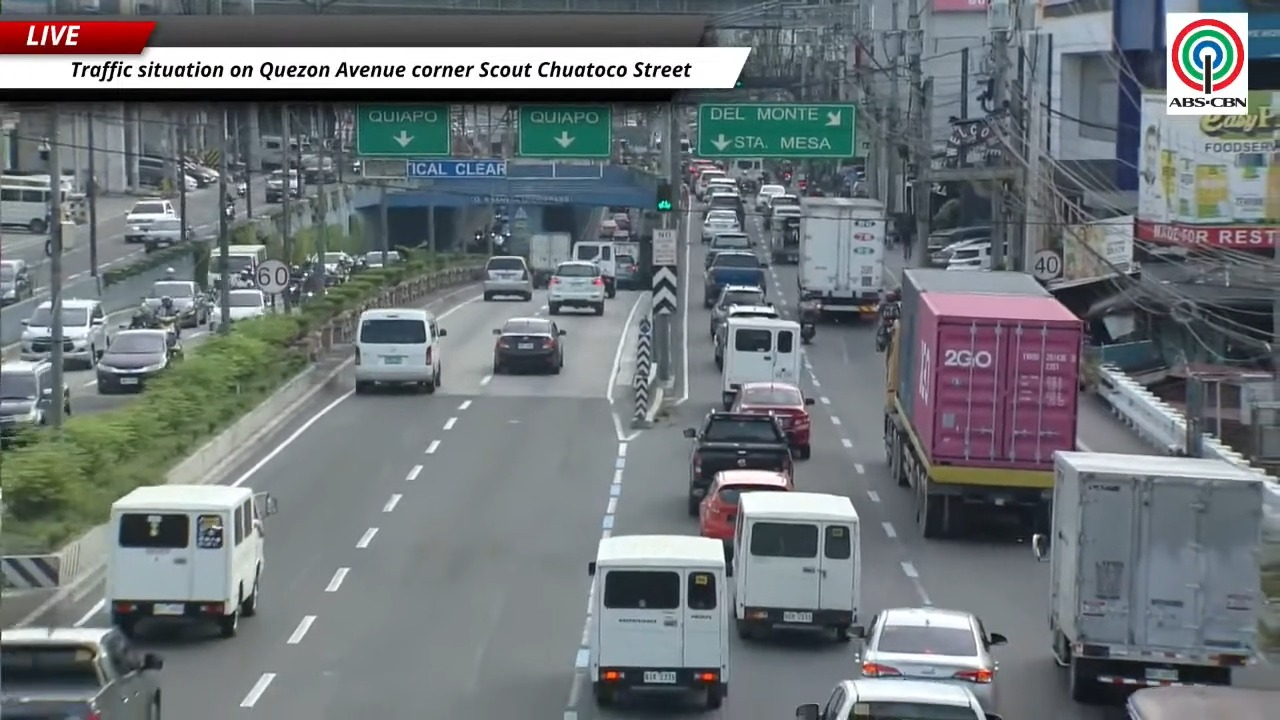car: (0, 627, 162, 719), (861, 607, 1005, 710), (684, 411, 793, 516), (795, 678, 1001, 719), (355, 308, 446, 393), (699, 469, 793, 551), (731, 382, 813, 459), (95, 329, 180, 394), (712, 305, 781, 367), (492, 317, 566, 374), (0, 361, 56, 436), (61, 298, 107, 367), (143, 280, 210, 327), (547, 261, 605, 314), (709, 286, 768, 337), (926, 225, 991, 264), (124, 198, 178, 243), (482, 255, 532, 301), (930, 236, 990, 266), (142, 217, 192, 252), (704, 231, 752, 267), (0, 260, 33, 305), (227, 288, 267, 322), (701, 210, 741, 243), (265, 169, 302, 202), (615, 253, 644, 289), (184, 159, 220, 187), (323, 251, 355, 281), (756, 184, 785, 210), (361, 250, 401, 268), (611, 212, 630, 231)
motorcycle: (155, 298, 180, 346), (875, 301, 899, 351), (799, 299, 820, 344), (128, 304, 157, 328), (875, 320, 895, 352), (224, 202, 236, 222)
truck: (1031, 452, 1265, 702), (884, 269, 1082, 537), (797, 197, 885, 317), (703, 251, 766, 308), (528, 232, 572, 287), (768, 206, 801, 264)
